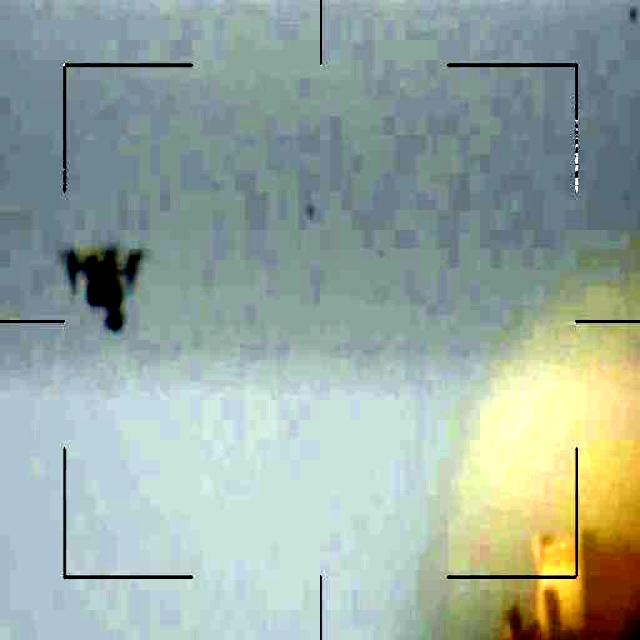bird: (64, 241, 156, 331)
